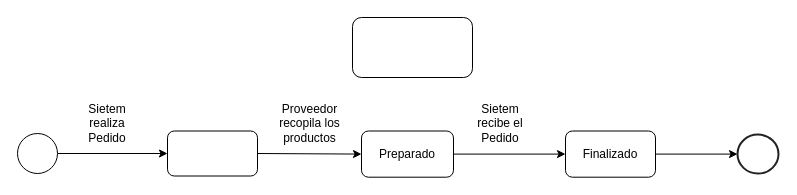
Some shapes in this 797 by 195 pixel diagram are drawn without their labels. Each missing label, with the box of its shape:
En curso: (166, 130, 258, 176)
PedidoProveedor: (352, 16, 472, 78)
